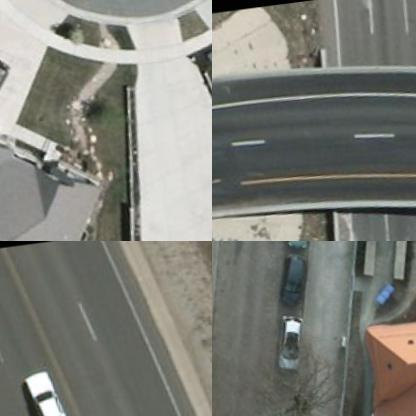car: (21, 367, 71, 415), (270, 252, 308, 304), (266, 315, 302, 368), (0, 55, 15, 110)
